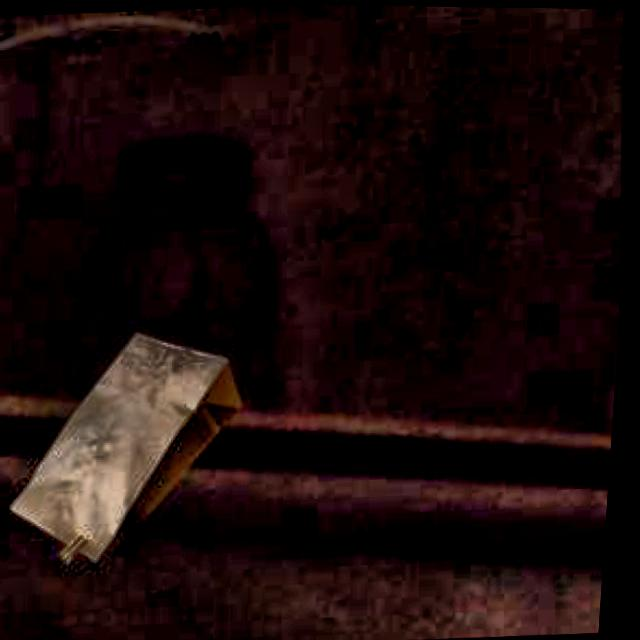Paper-bag: (1, 316, 259, 581)
